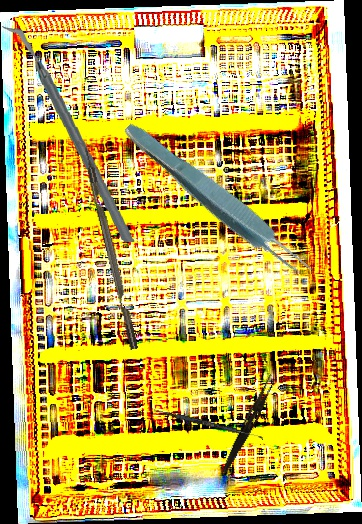Chopper: (1, 18, 137, 250), (71, 137, 139, 353)
Dressing Forceps: (220, 372, 278, 476)
Spatula Surgical: (152, 408, 265, 440)
Tissue Forceps: (116, 115, 319, 287)
